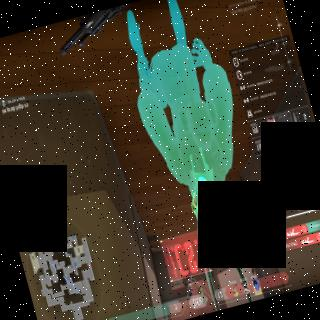ENEMY-HEAD: (190, 291, 192, 296)
